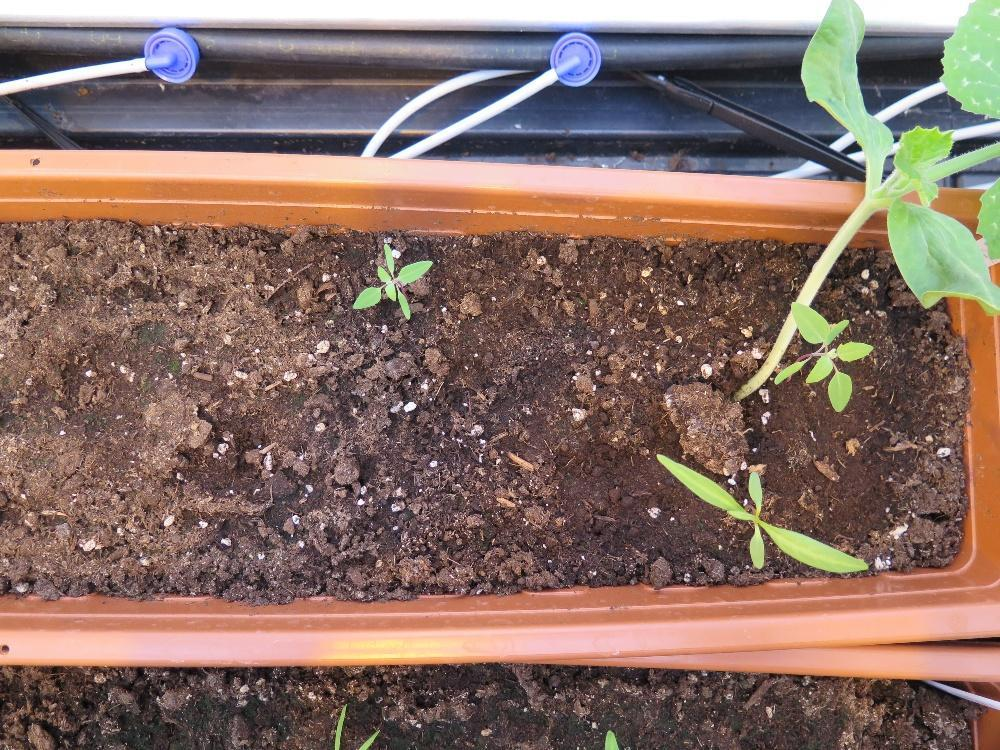weed: (654, 451, 869, 574), (350, 241, 433, 322)
